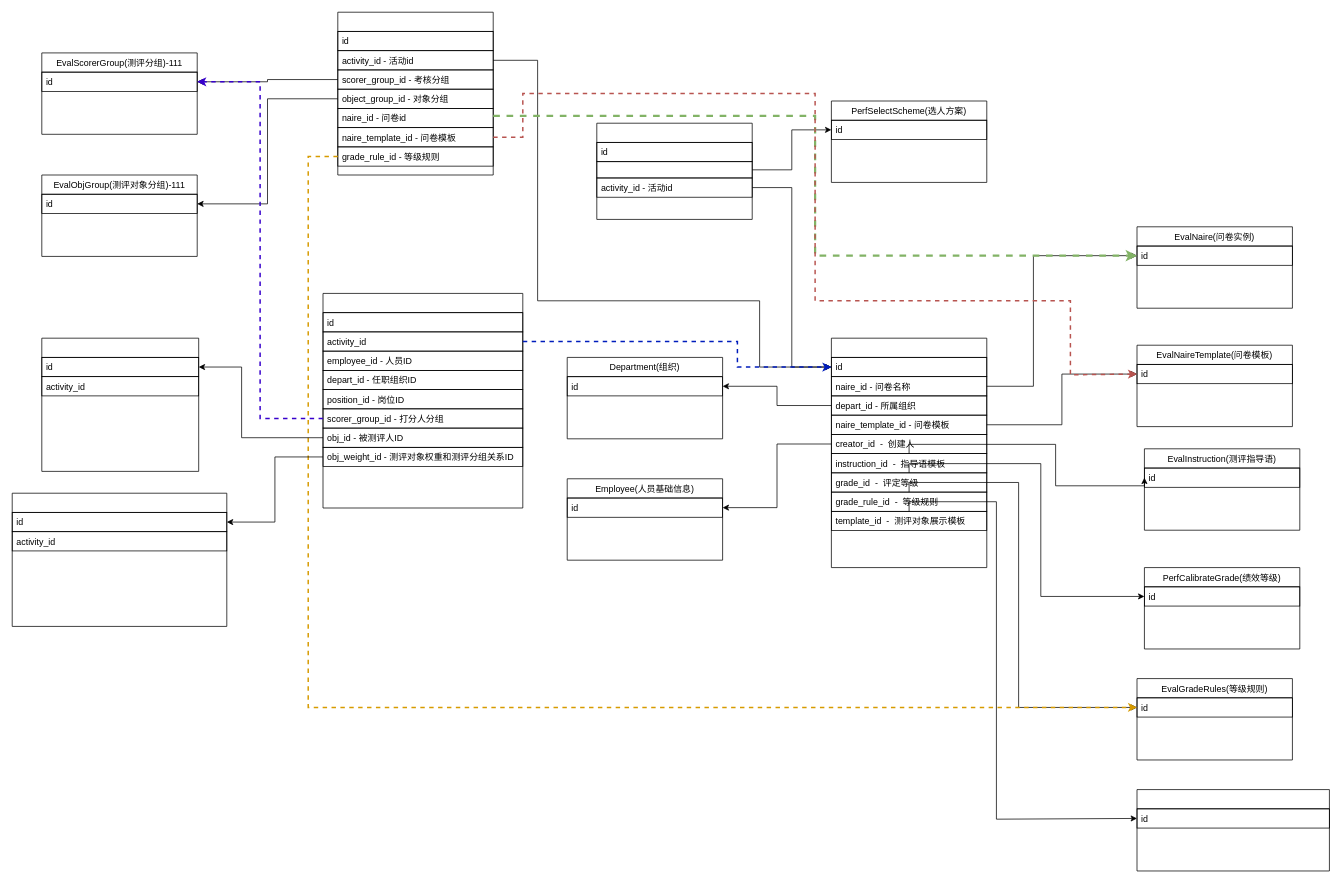
The diagram is 1342 pixels wide and 883 high, and some of its shapes have lost their labels. Each missing label, with the box of its shape:
EvalActivity(民主测评): (831, 337, 987, 568)
EvalGroupRelation(考核设置): (337, 11, 493, 175)
EvalObject(测评对象): (41, 337, 199, 471)
EvalObjGroup(测评对象分组): (596, 122, 752, 219)
EvalObjWeightRelate(测评对象和测评分组权重关系): (11, 492, 227, 626)
EvalScorer(打分关系): (322, 293, 523, 508)
EvalScoreTemplate(测评对象展示模板): (1136, 789, 1329, 871)
select_scheme_id - 方案id: (596, 161, 752, 178)
